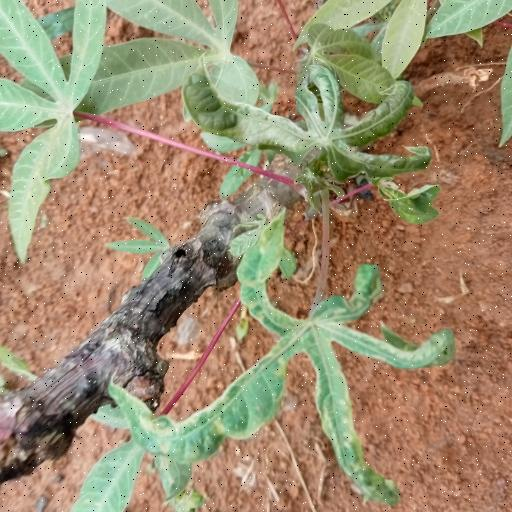Cassava_Mosaic: (209, 228, 453, 508), (193, 54, 442, 224), (1, 0, 102, 255)
